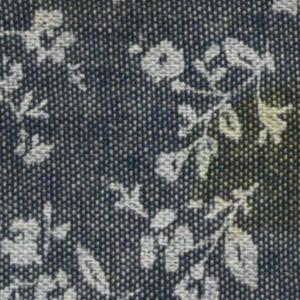Oil Stain: (191, 81, 300, 238)
